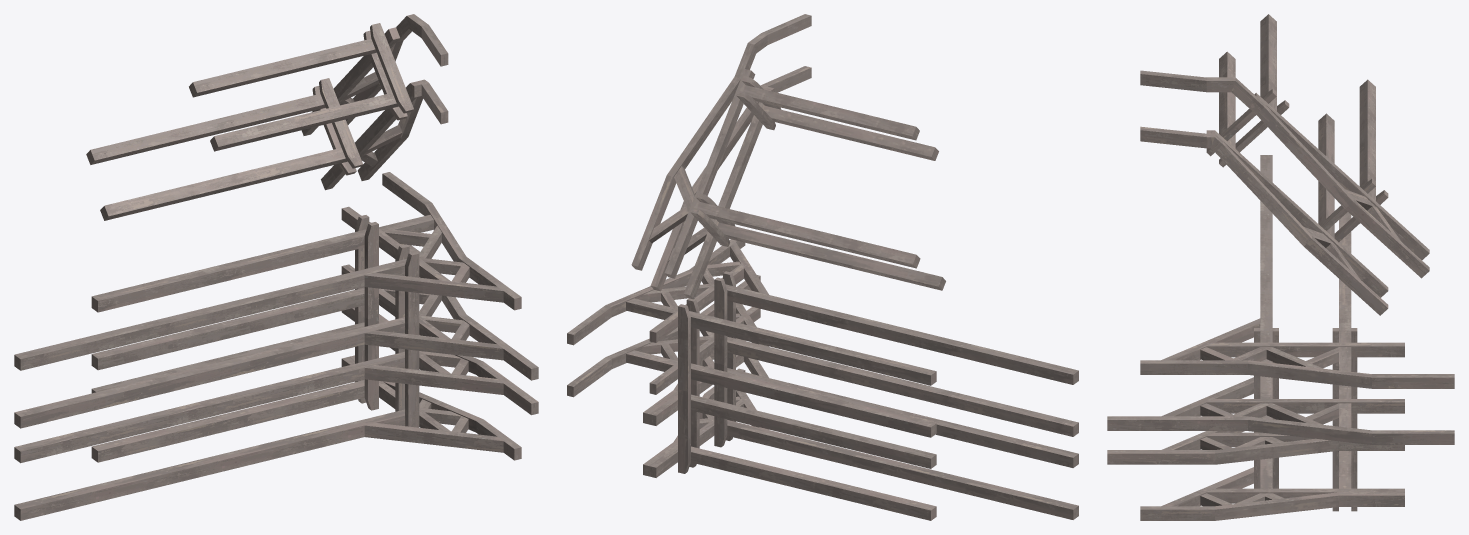
Rendered from props_coalmines_upward_bridge_supports1.glb.
The picture shows the model from 3 angles, left to right: view 1: azimuth 30°, elevation 25°; view 2: azimuth 150°, elevation 25°; view 3: azimuth 270°, elevation 25°; orthographic projection. The views are drawn at different scales.
Visible parts, largest first — view 1: models/props_coalmines/upward_bridge_supports1; view 2: models/props_coalmines/upward_bridge_supports1; view 3: models/props_coalmines/upward_bridge_supports1.
Part boxes in pixels (x1,y1,x2,y2): models/props_coalmines/upward_bridge_supports1: (14, 14, 538, 520); models/props_coalmines/upward_bridge_supports1: (567, 14, 1078, 520); models/props_coalmines/upward_bridge_supports1: (1107, 14, 1454, 520).
Size of the model in its own units: 1020 by 904 by 672.
1 material, 1 textured.
